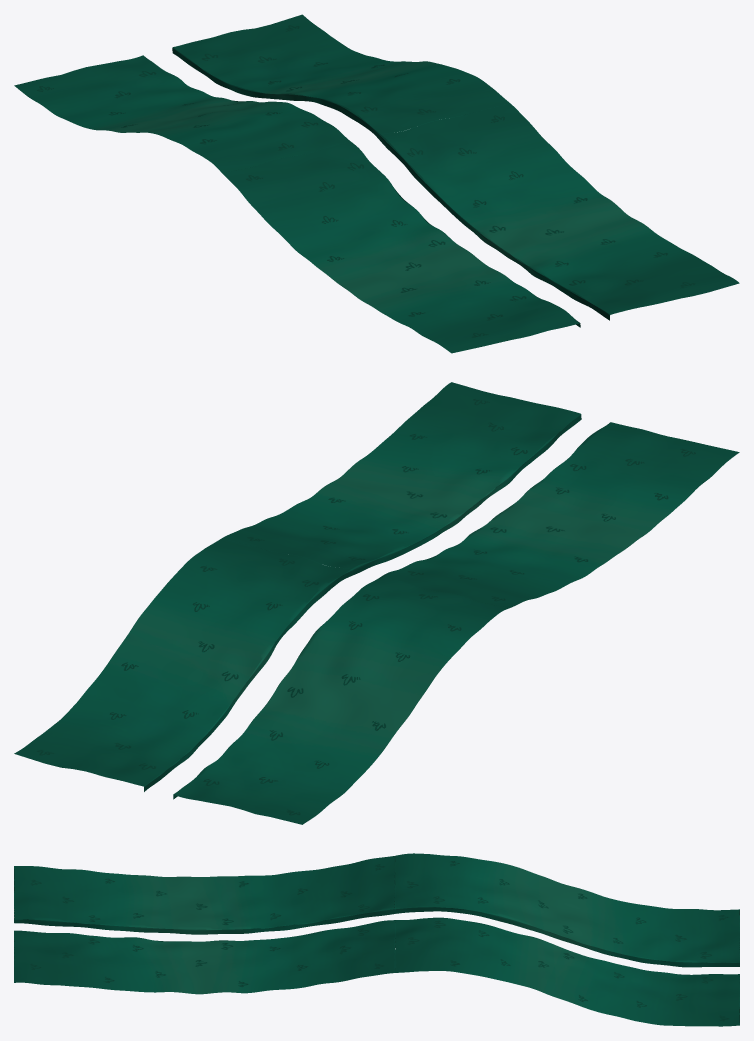
3 views of the same model, one above another, from view 1: azimuth 30°, elevation 25°; view 2: azimuth 150°, elevation 25°; view 3: azimuth 270°, elevation 25° (orthographic). The views are drawn at different scales.
Visible parts, largest first — view 1: Default; view 2: Default; view 3: Default.
Part boxes in pixels (<box>): Default: <box>14,14,739,353</box>; Default: <box>14,382,739,824</box>; Default: <box>14,853,739,1026</box>.
Bounding box in the file's own units: 913 × 224 × 2400.
Materials: 1 (1 with a texture image).
